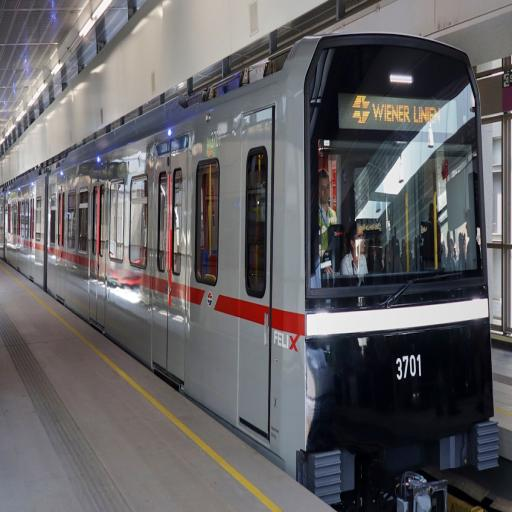X-Wagen: (2, 33, 502, 503)
